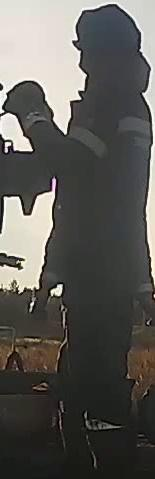gloves: (2, 79, 51, 141)
vest: (46, 78, 155, 315)
